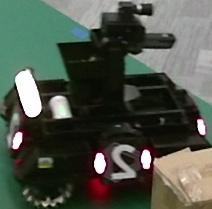armor_2: (95, 149, 151, 173)
light: (16, 69, 43, 117)
right_2: (105, 142, 142, 181)
